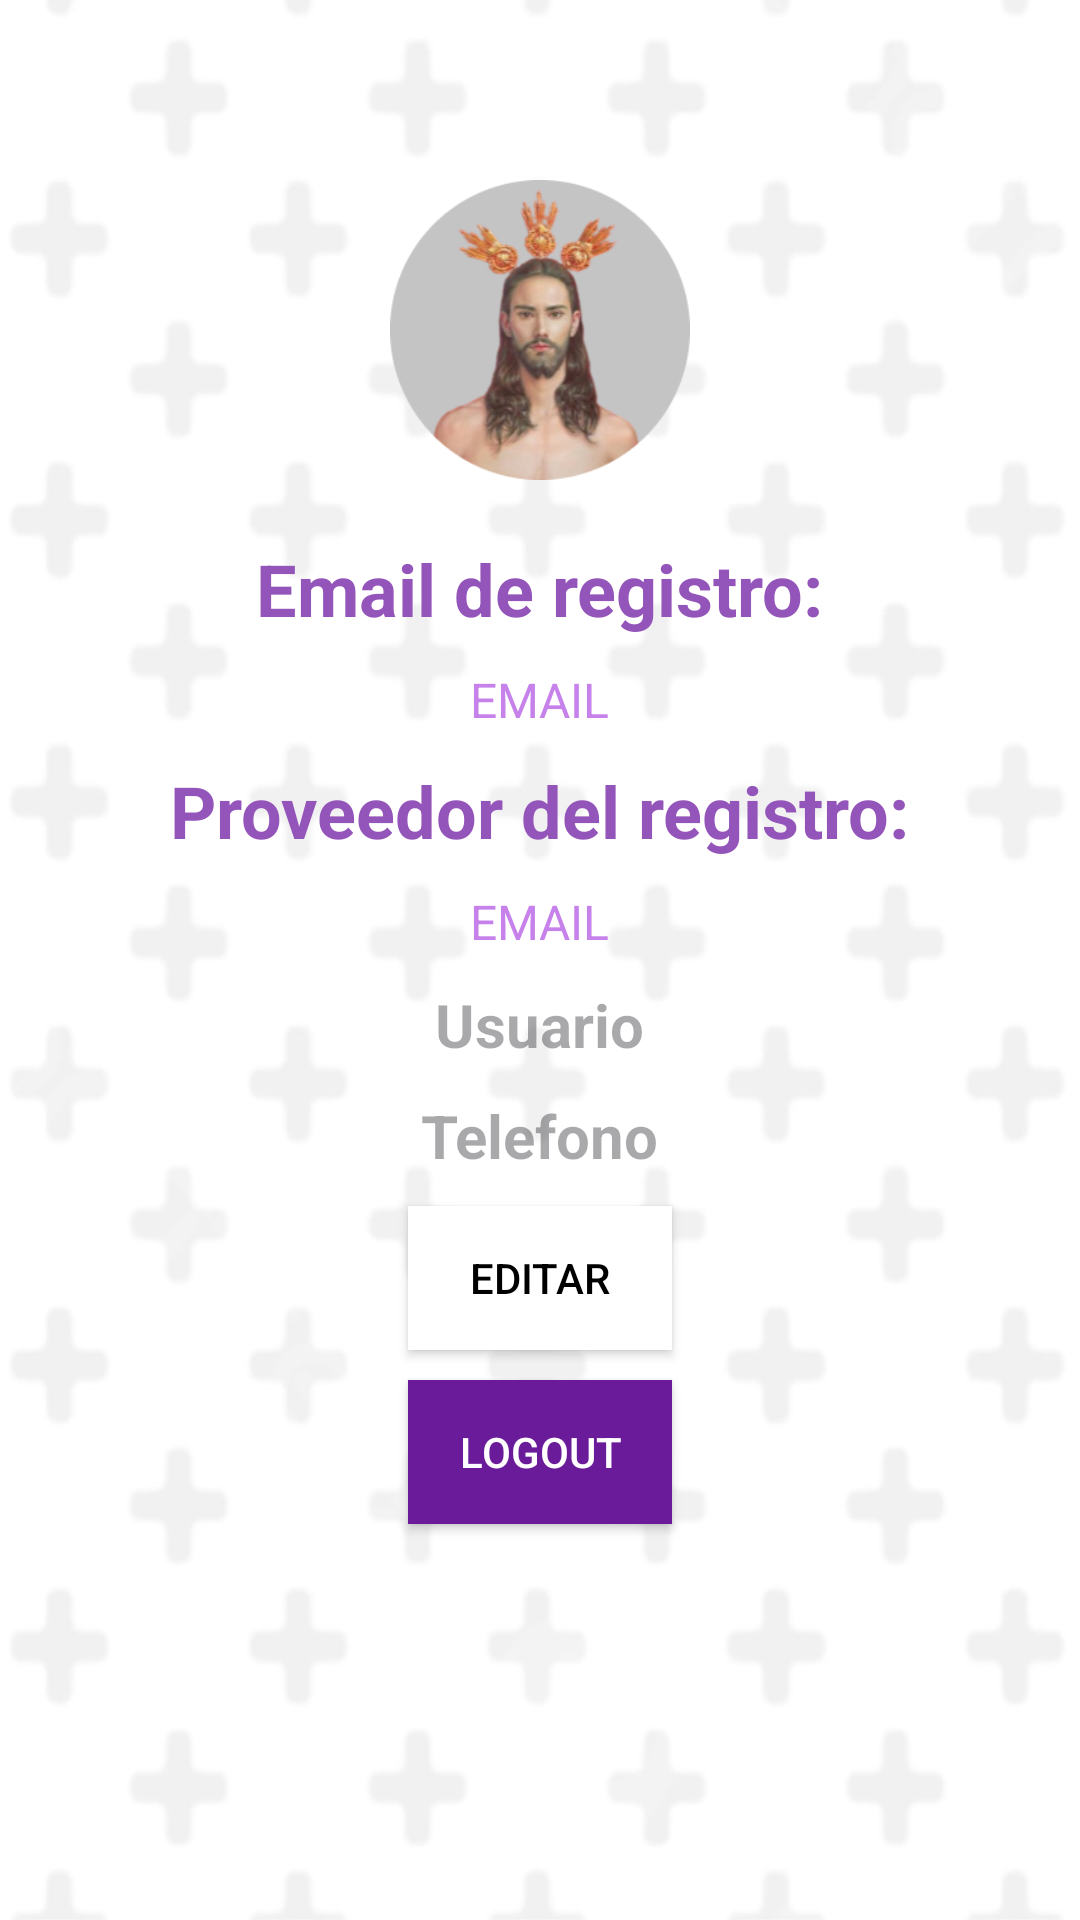

Locate icon controls on the screen. Image size 1080 × 1920, boxes as (x1, y1, x2, y2).
perfil: (390, 180, 690, 480)
